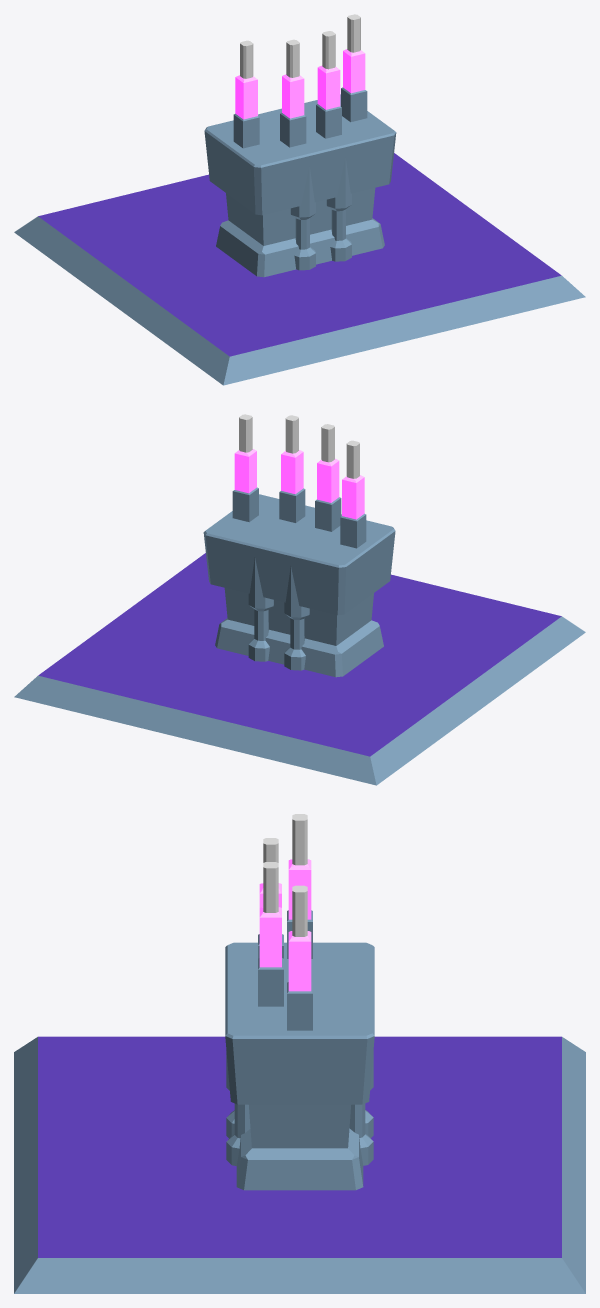
File: 11_aaltar_2.fbx
3 views of the same model, one above another, from view 1: azimuth 30°, elevation 25°; view 2: azimuth 150°, elevation 25°; view 3: azimuth 270°, elevation 25° (orthographic). The views are drawn at different scales.
Parts seen in each view (by area): view 1: foundation_2; view 2: foundation_2; view 3: foundation_2.
Part boxes in pixels (x1,y1,x2,y2): foundation_2: (14, 14, 585, 385); foundation_2: (14, 414, 585, 785); foundation_2: (14, 814, 585, 1293).
Size of the model in its own units: 78.73 by 48.62 by 78.73.
